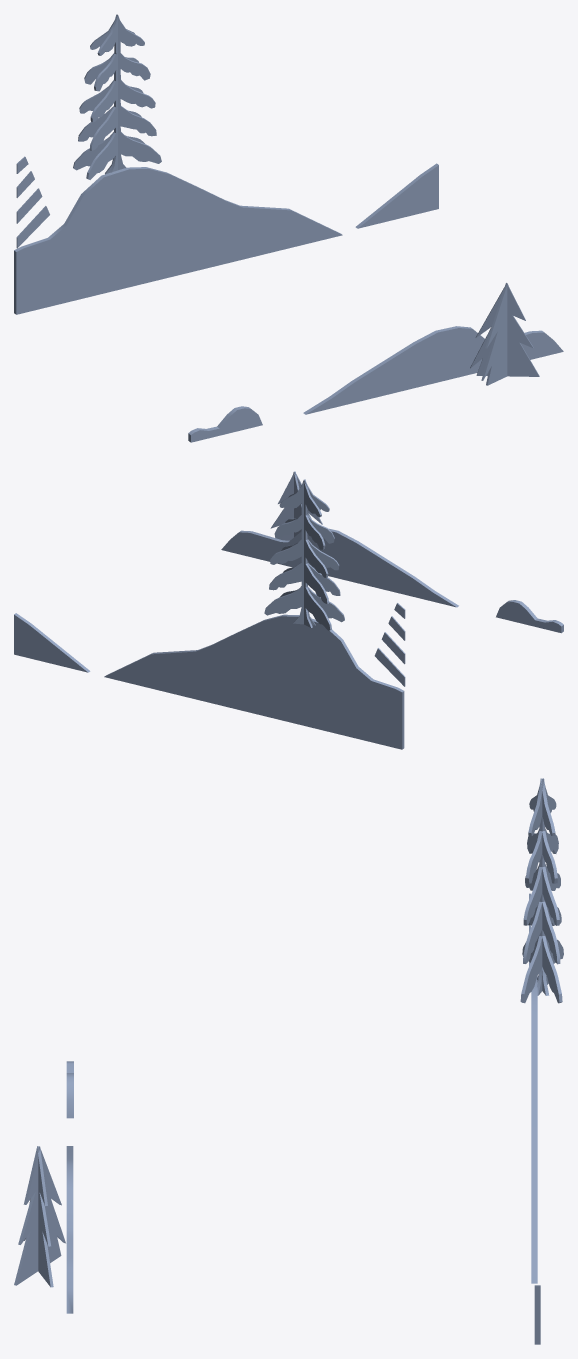
Rendered from frame_0118.glb.
3 renders of one model, top to bottom at view 1: azimuth 30°, elevation 25°; view 2: azimuth 150°, elevation 25°; view 3: azimuth 270°, elevation 25°, orthographic. The views are drawn at different scales.
Parts seen in each view (by area): view 1: export_trees_001.002; view 2: export_trees_001.002; view 3: export_trees_001.002.
Boxes of the visible parts, <box> form: export_trees_001.002: <box>14,14,563,442</box>; export_trees_001.002: <box>14,471,563,749</box>; export_trees_001.002: <box>14,778,563,1344</box>.
Bounding box in the file's own units: 0.4327 × 0.2648 × 0.3654.
